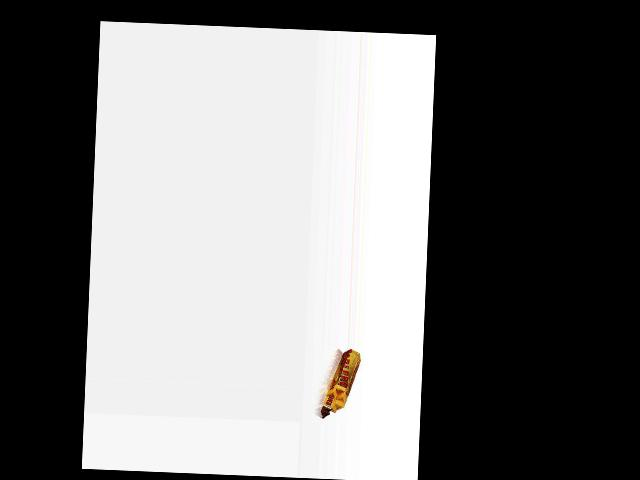chocolate: (317, 348, 362, 420)
